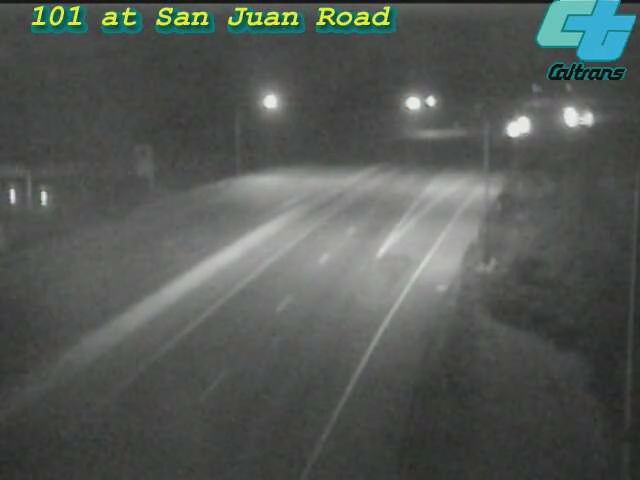vehicle: (563, 92, 613, 142), (491, 103, 541, 153), (498, 99, 548, 149), (546, 91, 596, 141)
